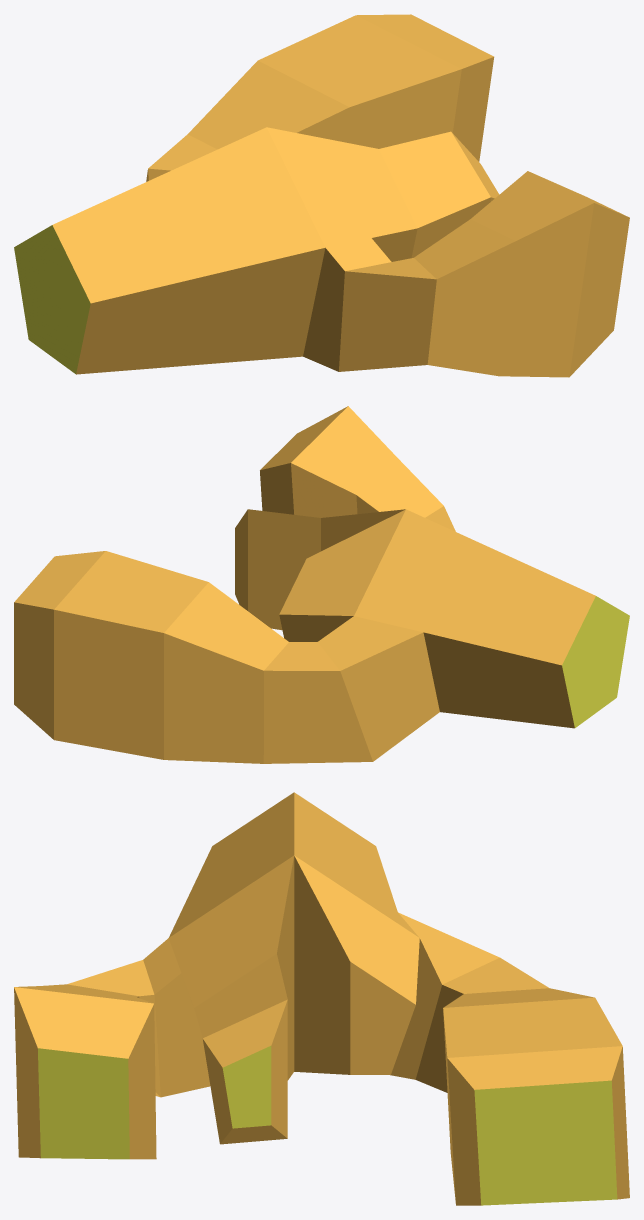
The model's file is ginger01.gltf.
3 renders of one model, top to bottom at view 1: azimuth 30°, elevation 25°; view 2: azimuth 150°, elevation 25°; view 3: azimuth 270°, elevation 25°, orthographic. The views are drawn at different scales.
Visible parts, largest first — view 1: Cylinder; view 2: Cylinder; view 3: Cylinder.
Part boxes in pixels (x1=…): Cylinder: x1=14, y1=14, x2=629, y2=377; Cylinder: x1=14, y1=406, x2=629, y2=763; Cylinder: x1=14, y1=792, x2=629, y2=1205.
Size of the model in its own units: 0.0736 by 0.0282 by 0.0699.
1 material, 1 textured.
